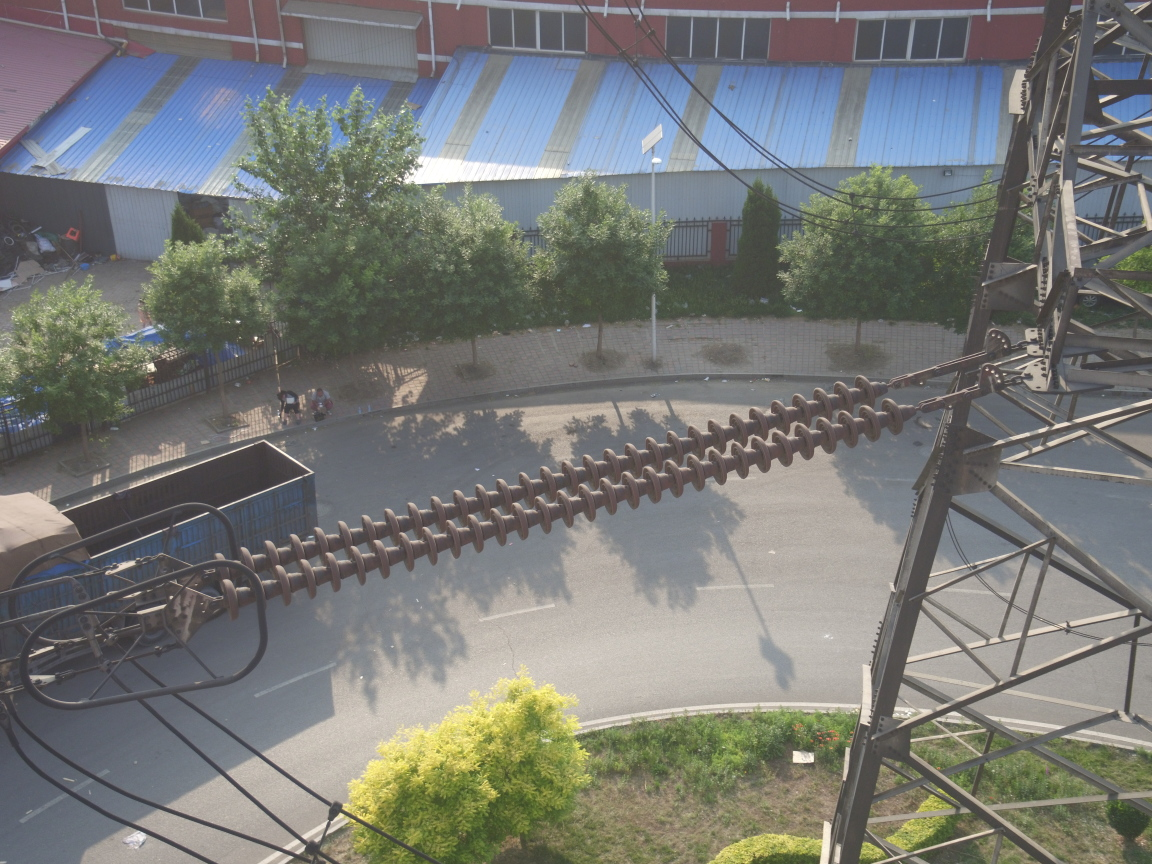insulator: (203, 367, 953, 619)
